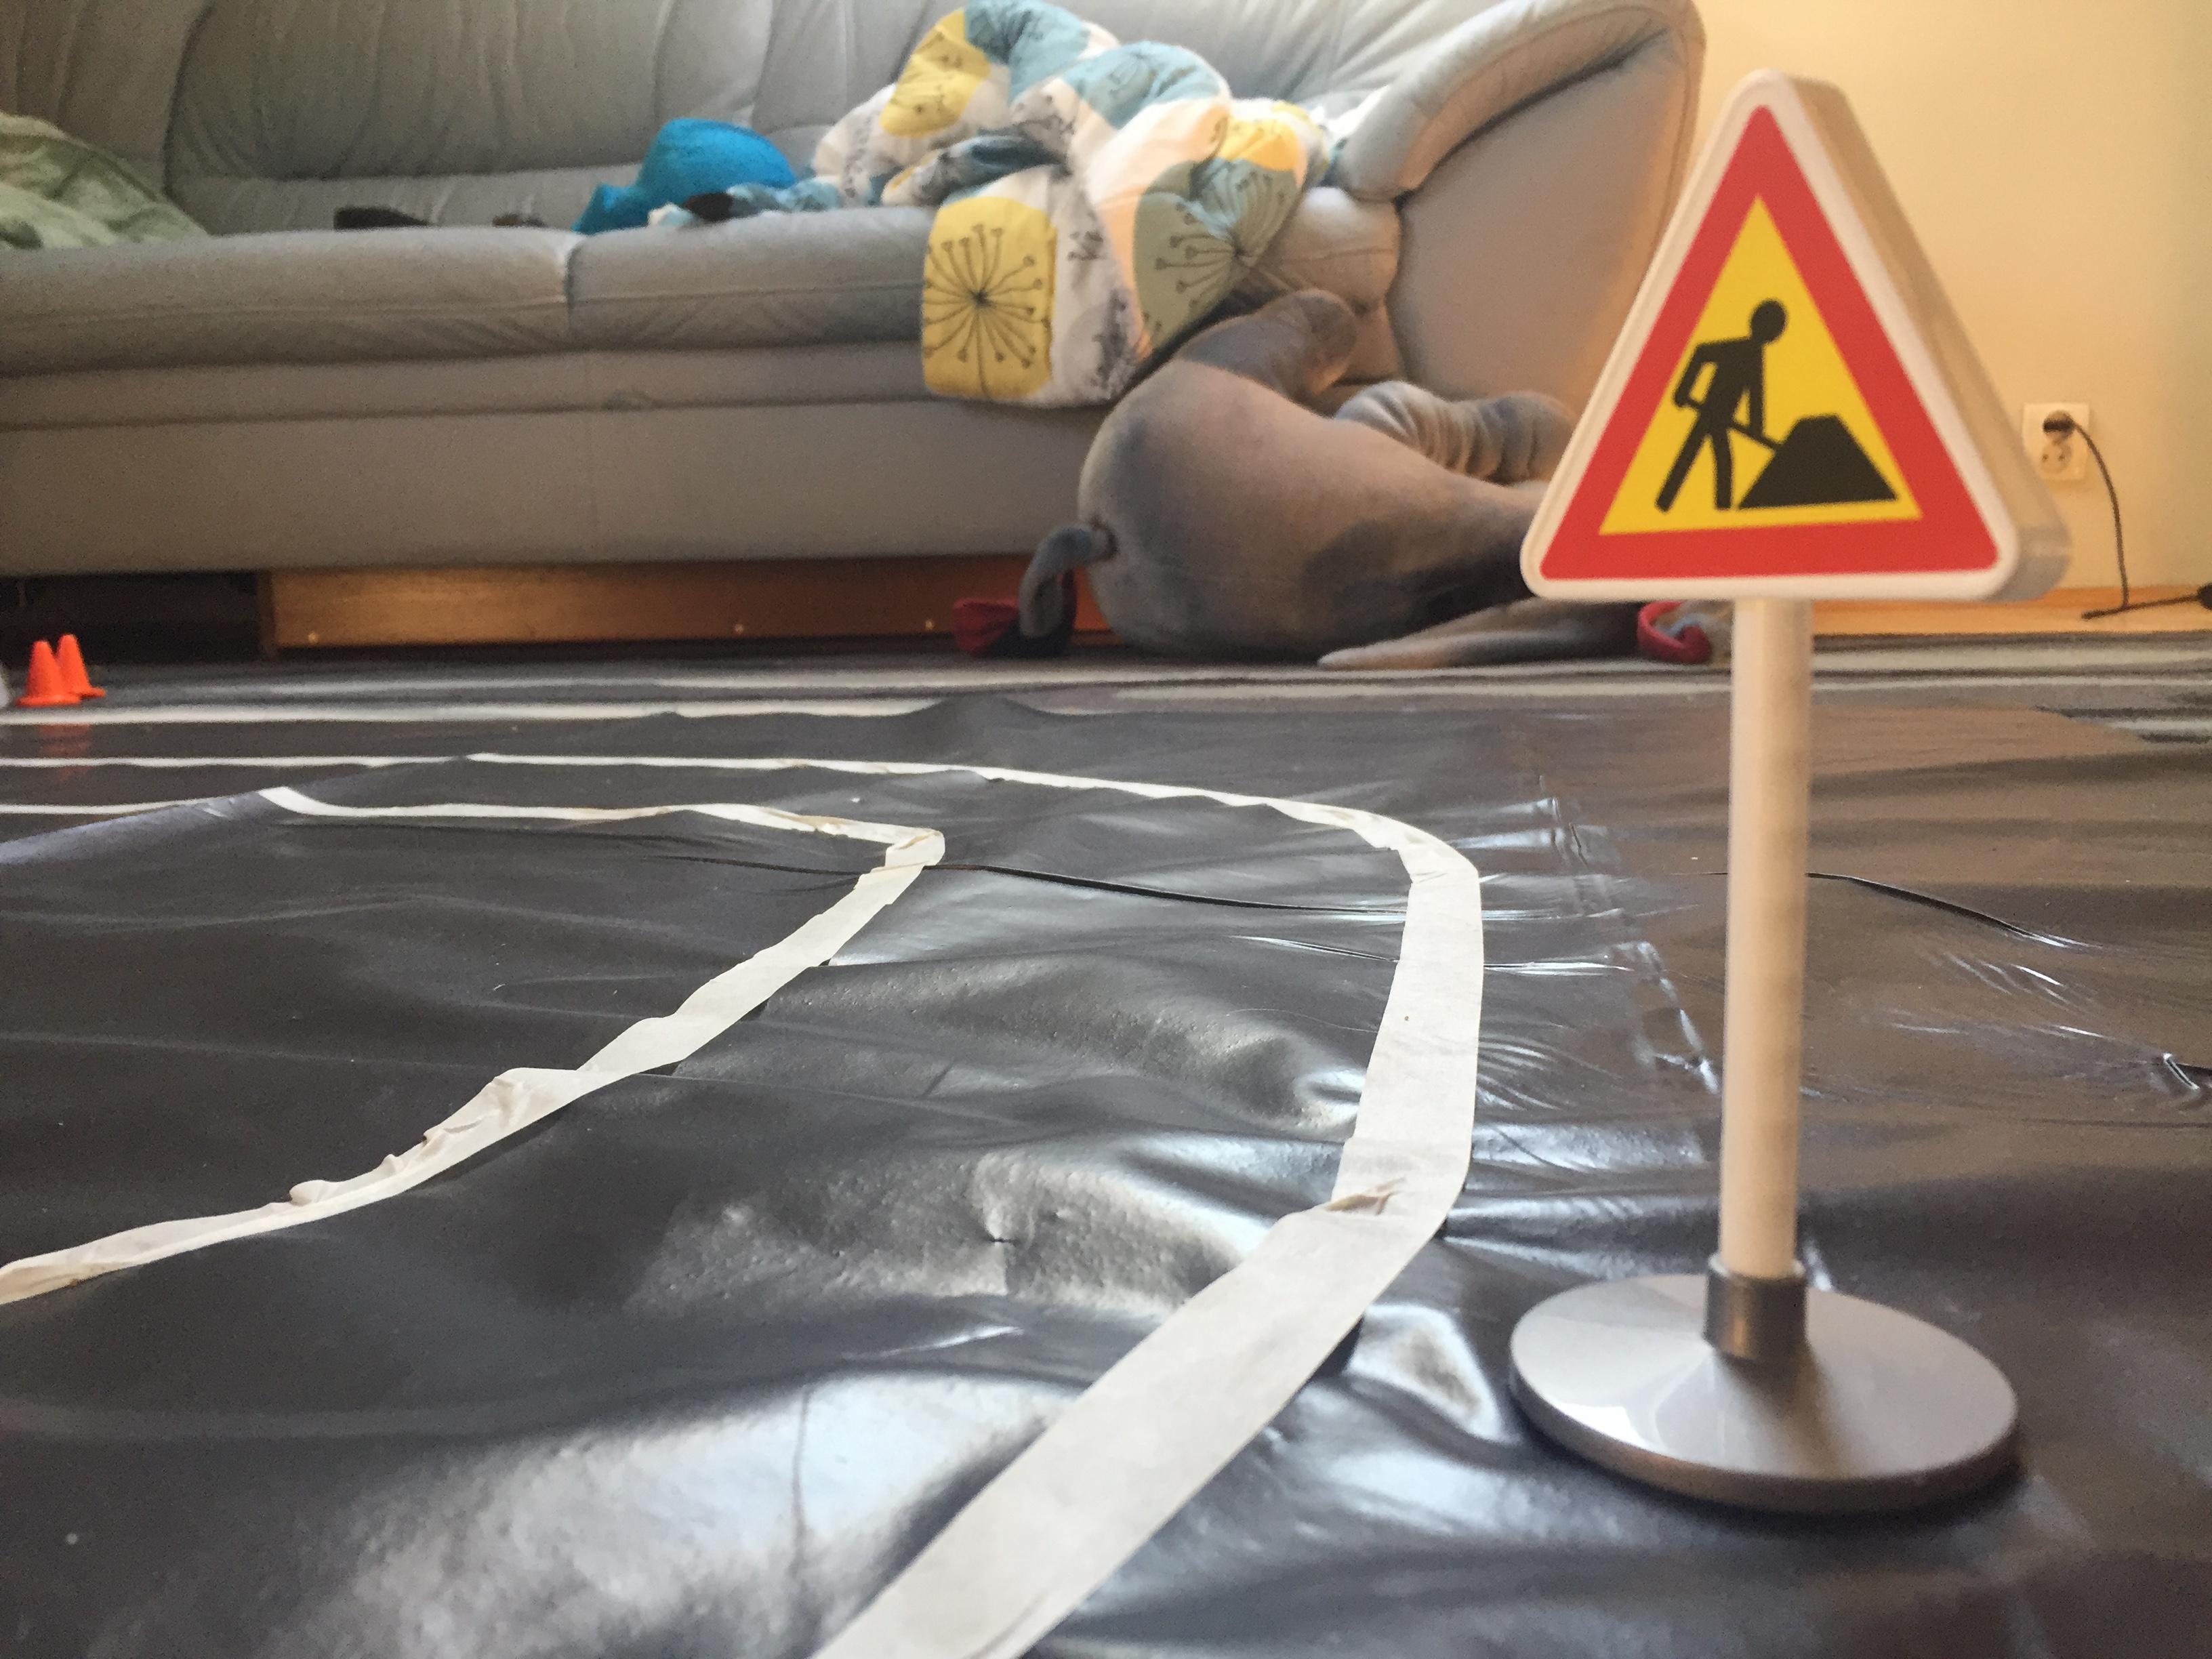work: (1510, 59, 2087, 619)
